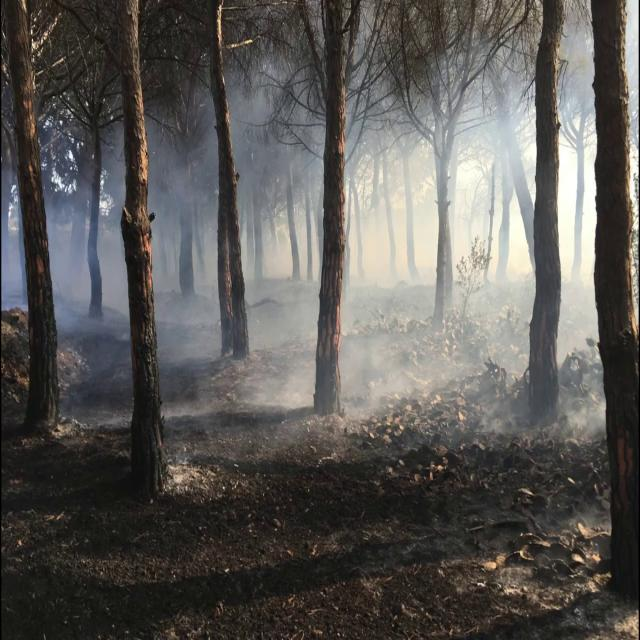Smoke: (14, 45, 612, 441), (0, 136, 111, 340)
